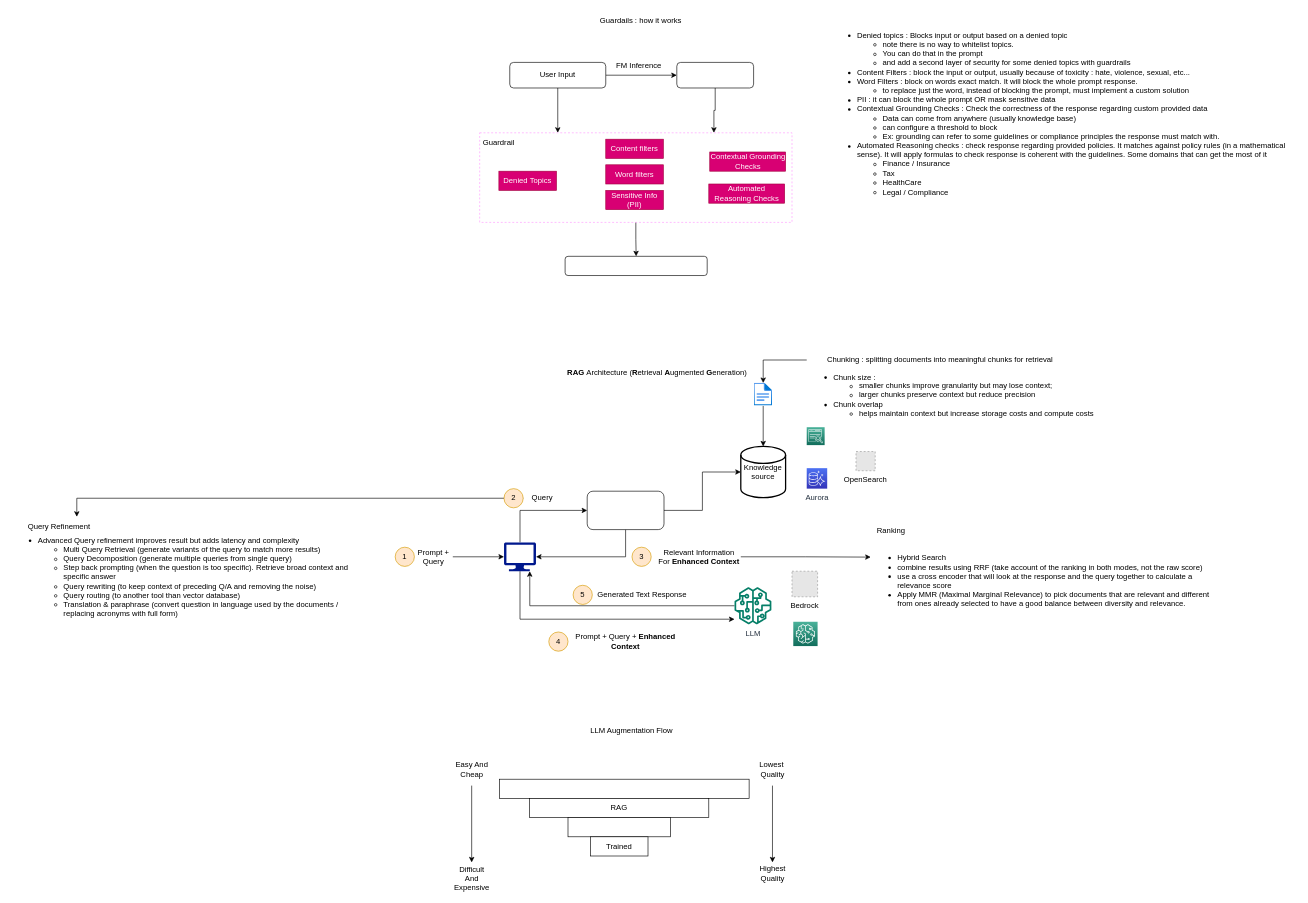
Image size: 1308x903. Some labels were removed from this diagram. Grey dashed boxes stand in for pictures. Here are the shapes that lost their labels. From the top down, the centre of each, then its label:
At [715,75]: "FM Output".
At [635,266]: "Final response".
At [763,394]: "Data".
At [815,436]: "Kendra".
At [625,510]: "Search Relevant Information".
At [520,556]: "Server".
At [805,633]: "SageMaker".
At [624,788]: "Prompt Engineering".
At [618,827]: "Fine Tuning".
